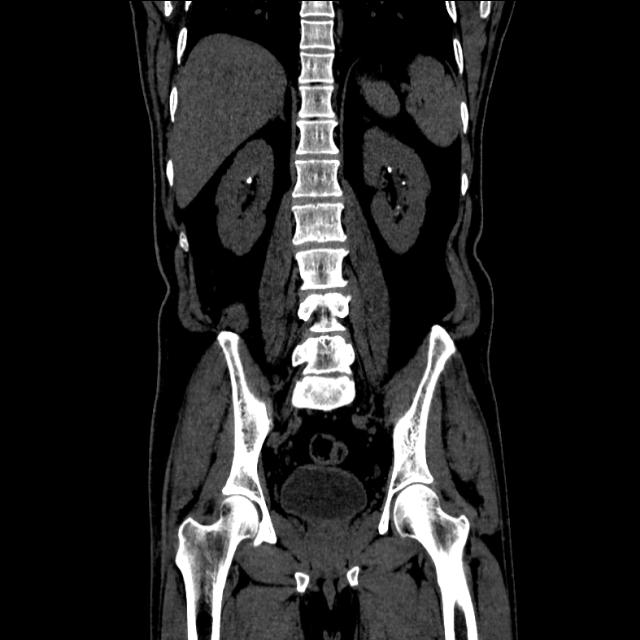kidney: (363, 127, 429, 253), (216, 138, 276, 254)
stone: (245, 174, 252, 185), (387, 166, 392, 173), (402, 181, 404, 185)
